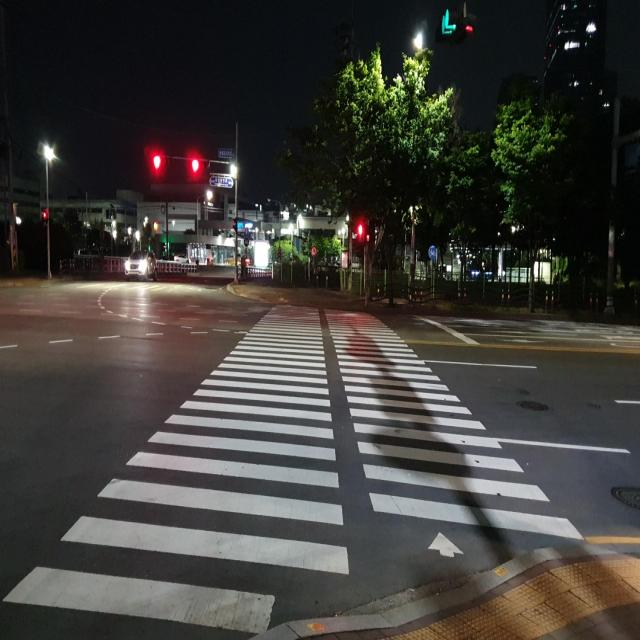빨간불: (358, 223, 368, 253)
횡단보도: (1, 303, 585, 636)
